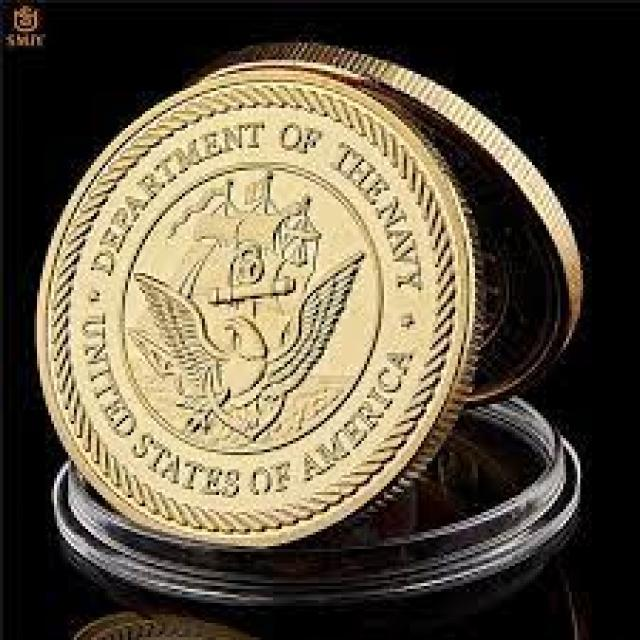Dry Waste: (57, 12, 523, 592)
